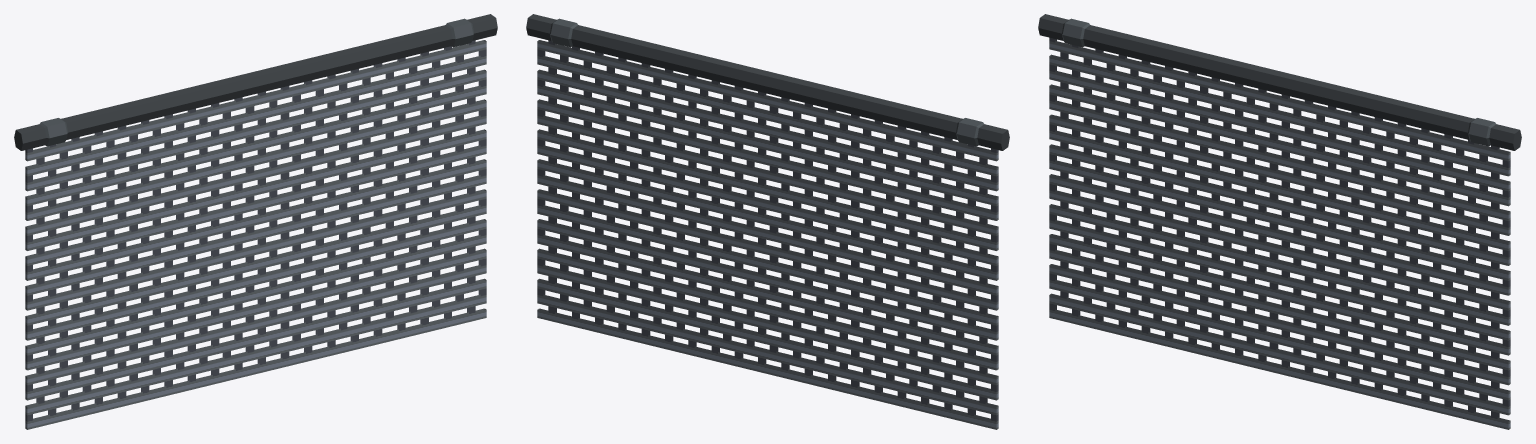
The model's file is SM_Bld_Wall_Shutter_03.fbx.
3 renders of one model, left to right at view 1: azimuth 30°, elevation 25°; view 2: azimuth 150°, elevation 25°; view 3: azimuth 330°, elevation 25°, orthographic.
Visible parts, largest first — view 1: SM_Bld_Wall_Shutter_03_Bars, SM_Bld_Wall_Shutter_03; view 2: SM_Bld_Wall_Shutter_03_Bars, SM_Bld_Wall_Shutter_03; view 3: SM_Bld_Wall_Shutter_03_Bars, SM_Bld_Wall_Shutter_03.
Boxes of the visible parts, box(x1,y1,x2,y2) form: SM_Bld_Wall_Shutter_03_Bars: box(25, 40, 486, 429); SM_Bld_Wall_Shutter_03: box(14, 14, 497, 150); SM_Bld_Wall_Shutter_03_Bars: box(537, 40, 998, 429); SM_Bld_Wall_Shutter_03: box(526, 14, 1009, 150); SM_Bld_Wall_Shutter_03_Bars: box(1049, 37, 1510, 429); SM_Bld_Wall_Shutter_03: box(1038, 14, 1521, 150).
Size of the model in its own units: 500 by 302 by 20.13.
